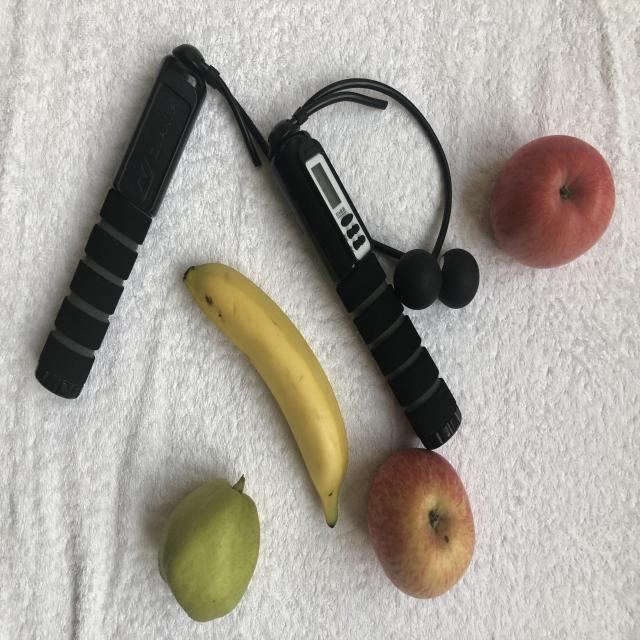Apple: (358, 443, 484, 611), (486, 132, 624, 278)
Banana: (178, 239, 349, 541)
